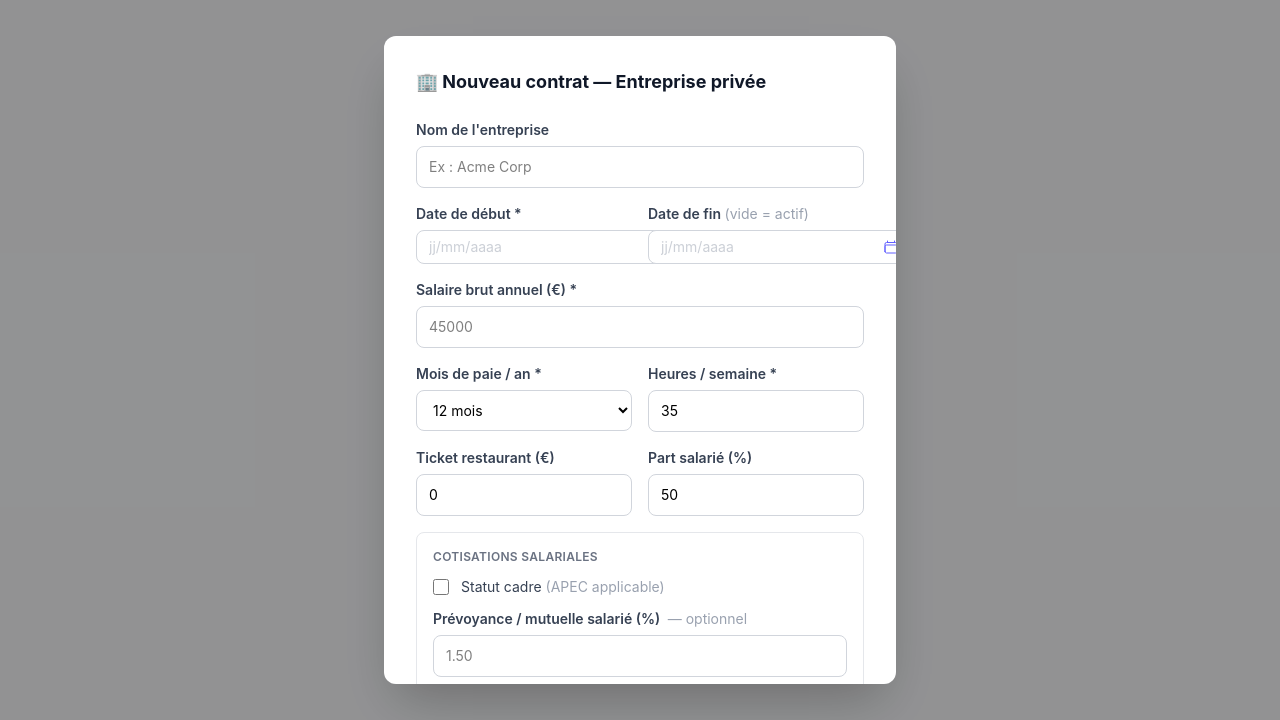
Scenario: SalaryContractFormPrivate › affiche une erreur 409 quand un contrat actif existe déjà
Step 1. Type "40000" into the number field with placeholder "45000" → (640, 327), box [416, 306, 864, 348]
(page scrolled)
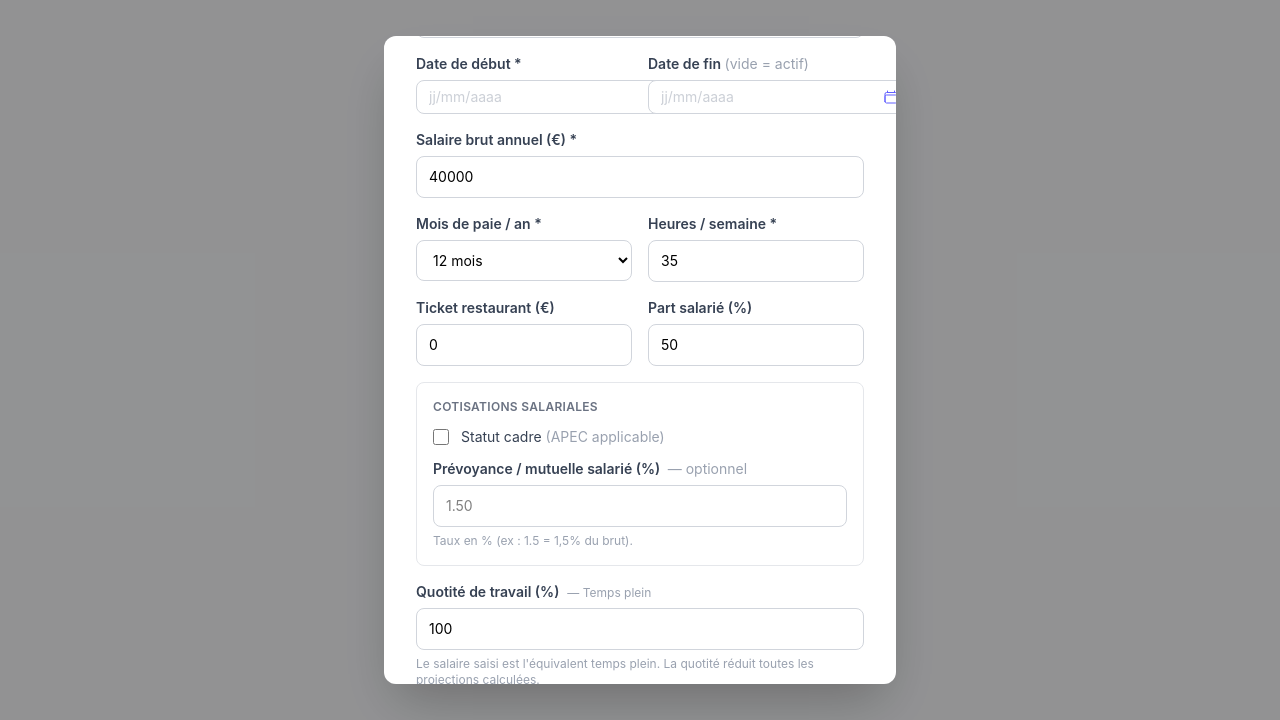
Step 2. Submit the form
(page scrolled)
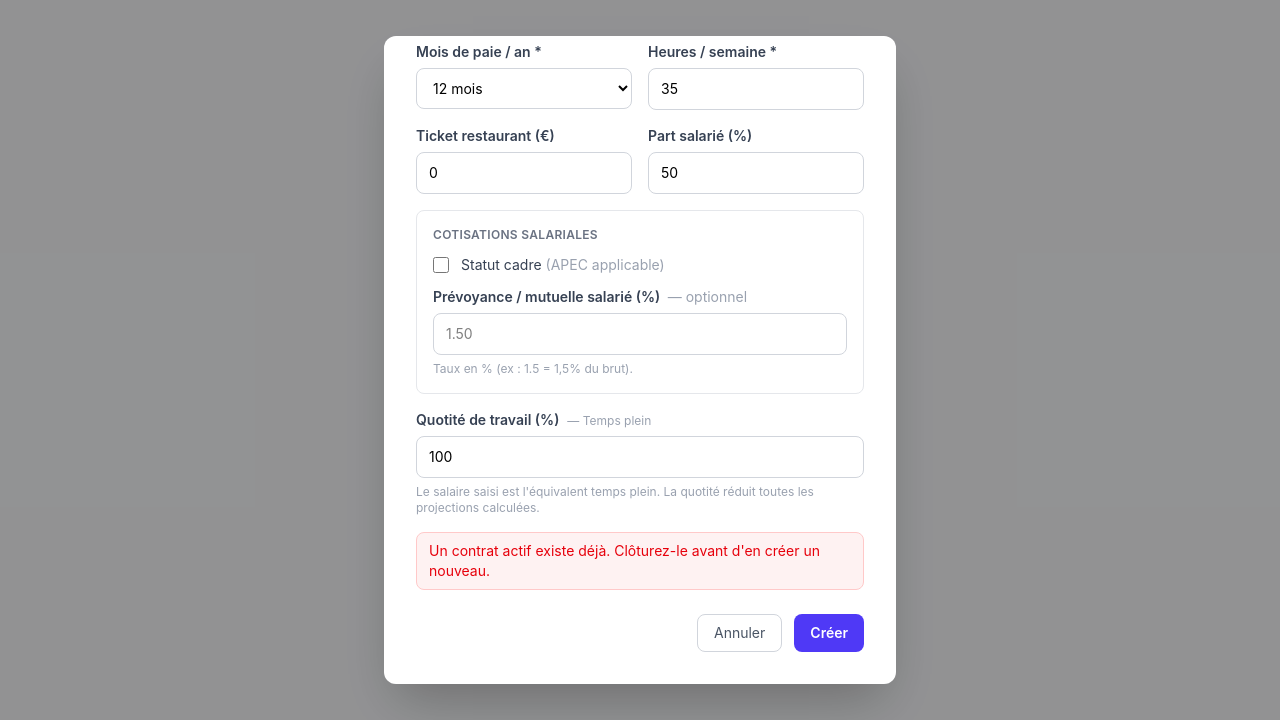
Check: the text "contrat actif existe déjà" is shown, box [429, 542, 820, 579]
